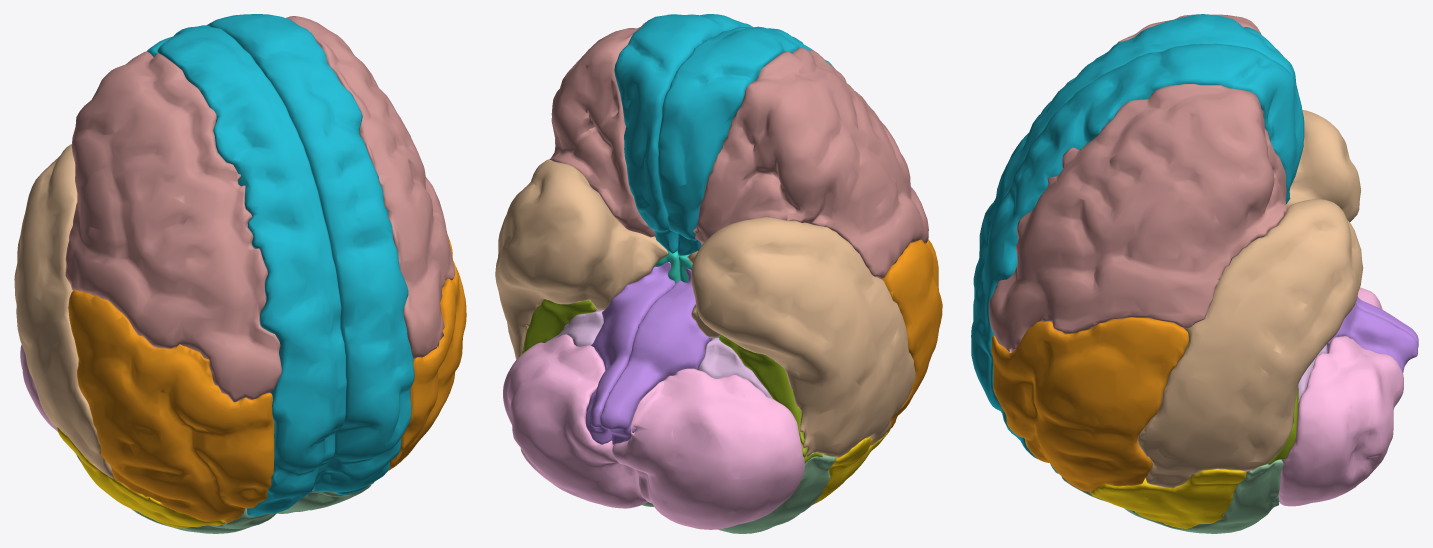
The model's file is brain_arterial.glb.
The picture shows the model from 3 angles, left to right: view 1: azimuth 30°, elevation 25°; view 2: azimuth 150°, elevation 25°; view 3: azimuth 270°, elevation 25°; orthographic projection.
Visible parts, largest first — view 1: Left-MCAF, Left-ACA, Right-ACA, Left-MCAP, Right-MCAF, Left-MCAT, Right-MCAP, Left-MCAO, Left-PCAO, Right-PCAO, Left-PICA; view 2: Left-MCAT, Left-MCAF, Left-PICA, Right-MCAT, Right-PICA, Left-ACA, Right-ACA, Right-MCAF, Left-BA, Left-MCAP, Right-BA, Left-PCAO (+5 smaller); view 3: Right-MCAF, Right-MCAT, Right-MCAP, Right-ACA, Right-PICA, Left-ACA, Right-MCAO, Left-MCAT, Right-PCAO, Right-BA, Left-BA.
Part boxes in pixels (<box>): Left-MCAF: <box>65,51,281,402</box>; Left-ACA: <box>146,25,346,516</box>; Right-ACA: <box>206,14,414,494</box>; Left-MCAP: <box>68,289,274,523</box>; Right-MCAF: <box>286,16,455,358</box>; Left-MCAT: <box>14,144,114,478</box>; Right-MCAP: <box>371,235,466,484</box>; Left-MCAO: <box>57,428,224,528</box>; Left-PCAO: <box>57,427,276,533</box>; Right-PCAO: <box>277,483,371,513</box>; Left-PICA: <box>20,344,57,431</box>; Left-MCAT: <box>687,217,915,457</box>; Left-MCAF: <box>692,47,928,278</box>; Left-PICA: <box>612,368,804,529</box>; Right-MCAT: <box>495,159,668,359</box>; Right-PICA: <box>503,334,647,508</box>; Left-ACA: <box>658,26,833,255</box>; Right-ACA: <box>614,14,753,253</box>; Right-MCAF: <box>550,22,655,237</box>; Left-BA: <box>600,268,712,444</box>; Left-MCAP: <box>880,239,942,432</box>; Right-BA: <box>585,262,675,444</box>; Left-PCAO: <box>719,454,835,533</box>; Right-MCAF: <box>989,84,1288,352</box>; Right-MCAT: <box>1137,199,1363,488</box>; Right-MCAP: <box>991,317,1188,492</box>; Right-ACA: <box>971,43,1303,473</box>; Right-PICA: <box>1278,336,1403,506</box>; Left-ACA: <box>973,14,1304,320</box>; Right-MCAO: <box>1090,469,1246,528</box>; Left-MCAT: <box>1286,110,1360,222</box>; Right-PCAO: <box>1061,459,1283,533</box>; Right-BA: <box>1327,302,1417,372</box>; Left-BA: <box>1356,296,1418,347</box>.
Size of the model in its own units: 145 by 183 by 156.
